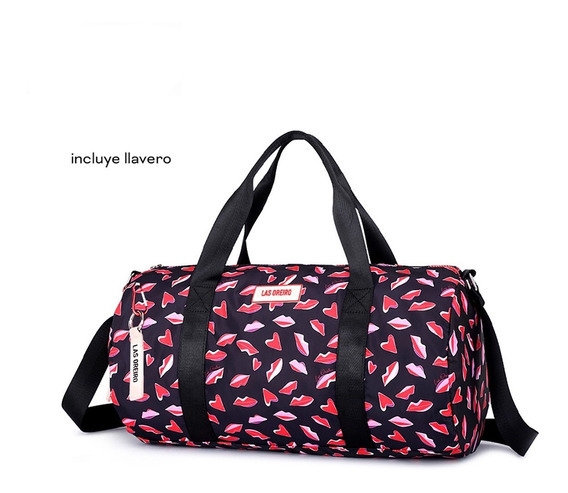cartera: (60, 131, 539, 462)
